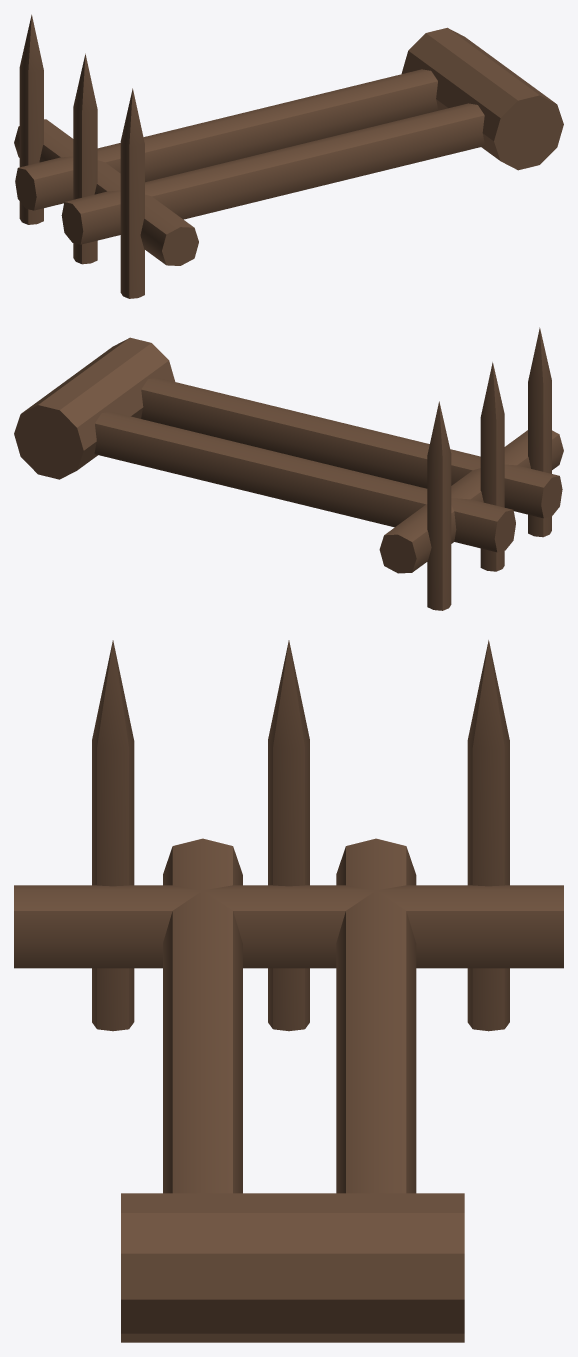
Rendered from swing spikes1.fbx.
The picture shows the model from 3 angles, top to bottom: view 1: azimuth 30°, elevation 25°; view 2: azimuth 150°, elevation 25°; view 3: azimuth 270°, elevation 25°; orthographic projection. The views are drawn at different scales.
Parts seen in each view (by area): view 1: pCylinder9; view 2: pCylinder9; view 3: pCylinder9.
Part boxes in pixels (x1,y1,x2,y2): pCylinder9: (14,14,563,298); pCylinder9: (14,327,563,610); pCylinder9: (14,640,563,1342).
Size of the model in its own units: 0.00427 by 0.00179 by 0.00233.
